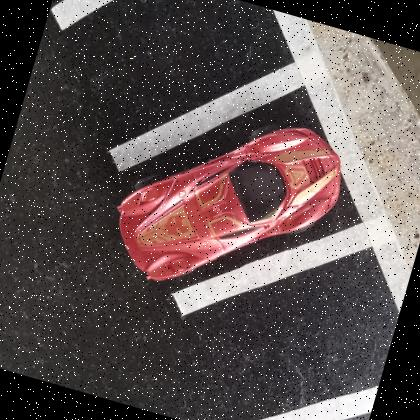Car: (117, 125, 343, 279)
